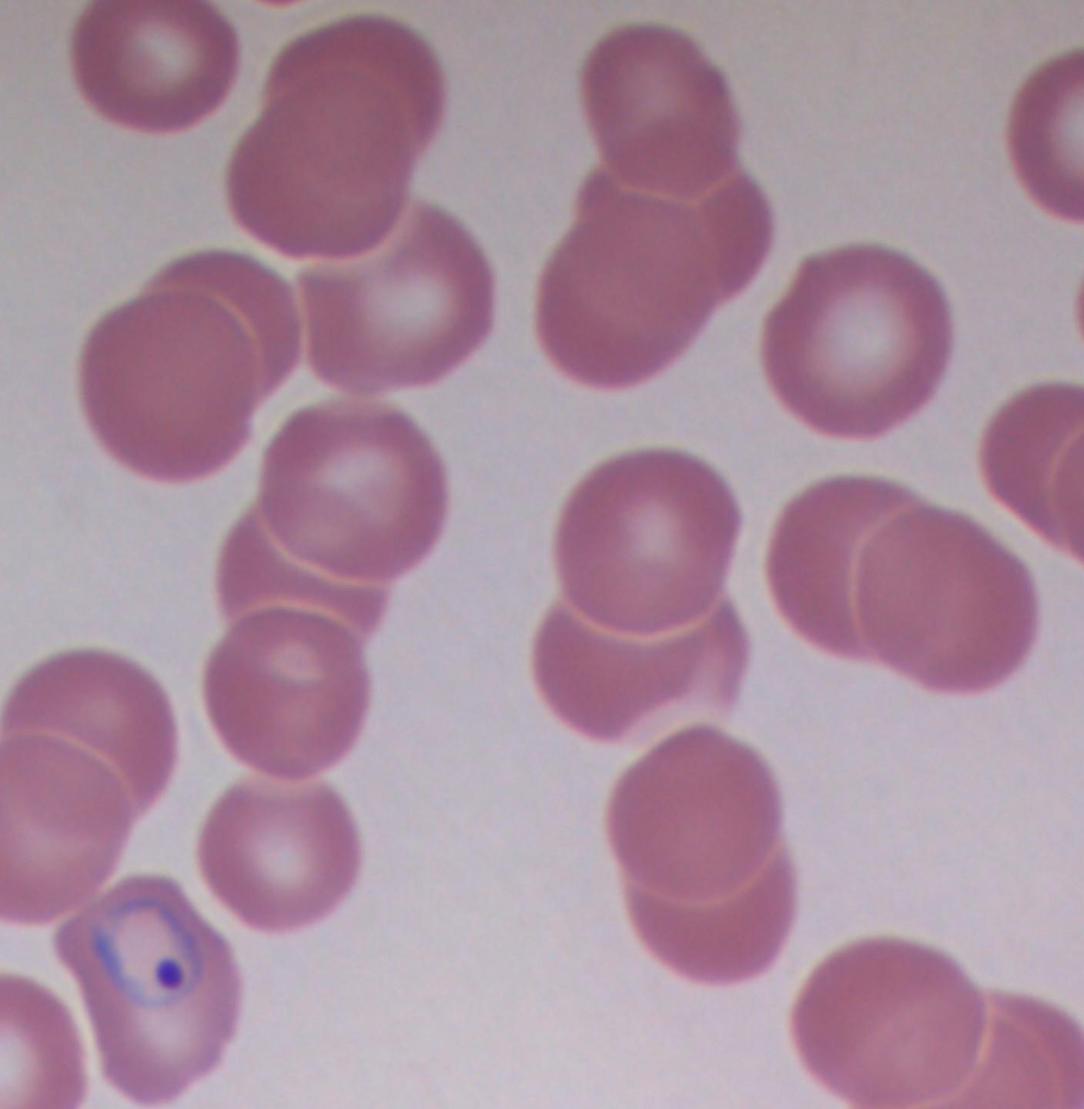Infected: (847, 3, 1026, 235)
Uninfected: (624, 516, 832, 710), (585, 706, 786, 902), (344, 460, 531, 666), (46, 414, 240, 604), (136, 670, 317, 871), (308, 799, 514, 972), (362, 724, 550, 909), (87, 0, 290, 171), (328, 352, 538, 515), (141, 442, 311, 637), (295, 204, 470, 392), (670, 840, 844, 1029), (901, 278, 1082, 457), (839, 624, 1000, 815), (336, 909, 509, 1078), (290, 116, 451, 288), (719, 178, 880, 349), (644, 932, 822, 1085), (706, 429, 867, 597), (724, 322, 877, 495), (790, 699, 923, 863), (955, 188, 1084, 356), (855, 971, 1009, 1109)
